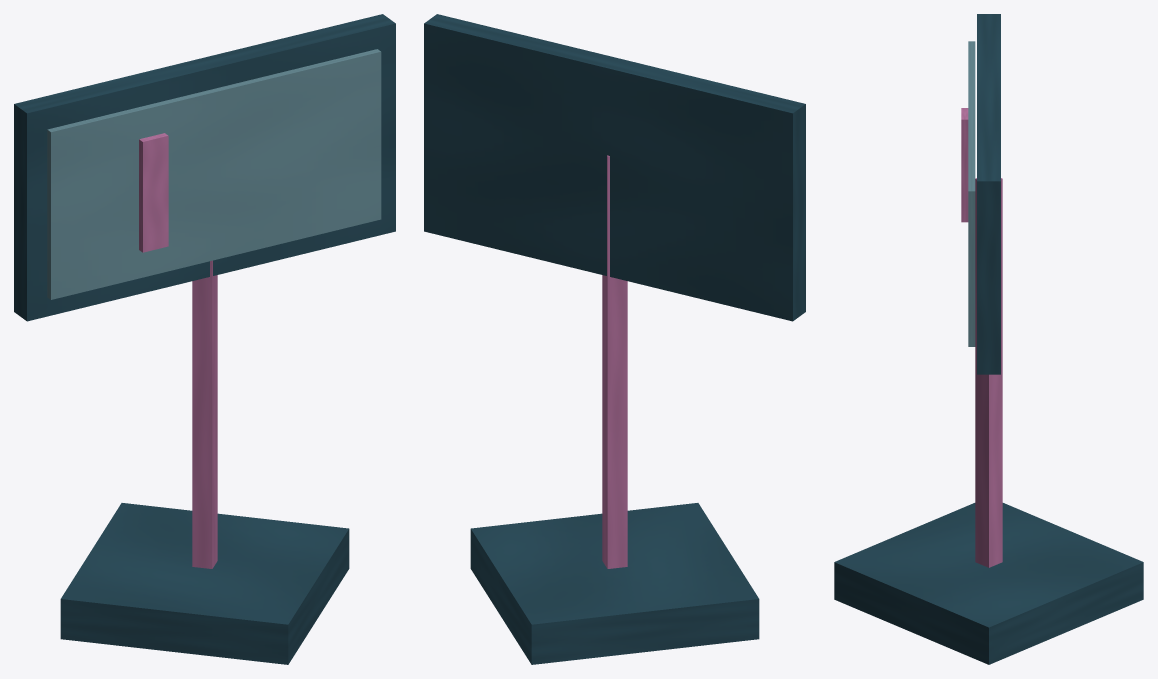
Rendered from atlas100-s062-a11.lod2.glb.
3 renders of one model, left to right at view 1: azimuth 30°, elevation 25°; view 2: azimuth 150°, elevation 25°; view 3: azimuth 270°, elevation 25°, orthographic. The views are drawn at different scales.
Visible parts, largest first — view 1: atlas100-s062-a11:part-003, atlas100-s062-a11:part-000, atlas100-s062-a11:part-002, atlas100-s062-a11:part-001, atlas100-s062-a11:part-004; view 2: atlas100-s062-a11:part-002, atlas100-s062-a11:part-000, atlas100-s062-a11:part-001; view 3: atlas100-s062-a11:part-000, atlas100-s062-a11:part-002, atlas100-s062-a11:part-001, atlas100-s062-a11:part-003, atlas100-s062-a11:part-004.
Part boxes in pixels (x1,y1,x2,y2): atlas100-s062-a11:part-003: [47, 49, 381, 299]; atlas100-s062-a11:part-000: [60, 503, 349, 664]; atlas100-s062-a11:part-002: [14, 14, 395, 321]; atlas100-s062-a11:part-001: [192, 260, 217, 568]; atlas100-s062-a11:part-004: [139, 133, 168, 252]; atlas100-s062-a11:part-002: [424, 14, 805, 321]; atlas100-s062-a11:part-000: [470, 503, 759, 664]; atlas100-s062-a11:part-001: [602, 155, 627, 568]; atlas100-s062-a11:part-000: [834, 503, 1143, 664]; atlas100-s062-a11:part-002: [977, 14, 1000, 374]; atlas100-s062-a11:part-001: [975, 178, 1002, 567]; atlas100-s062-a11:part-003: [968, 41, 975, 346]; atlas100-s062-a11:part-004: [961, 108, 968, 222].
Bounding box in the file's own units: 1.15 × 1.61 × 0.9.
Materials: 3 (3 with a texture image).
